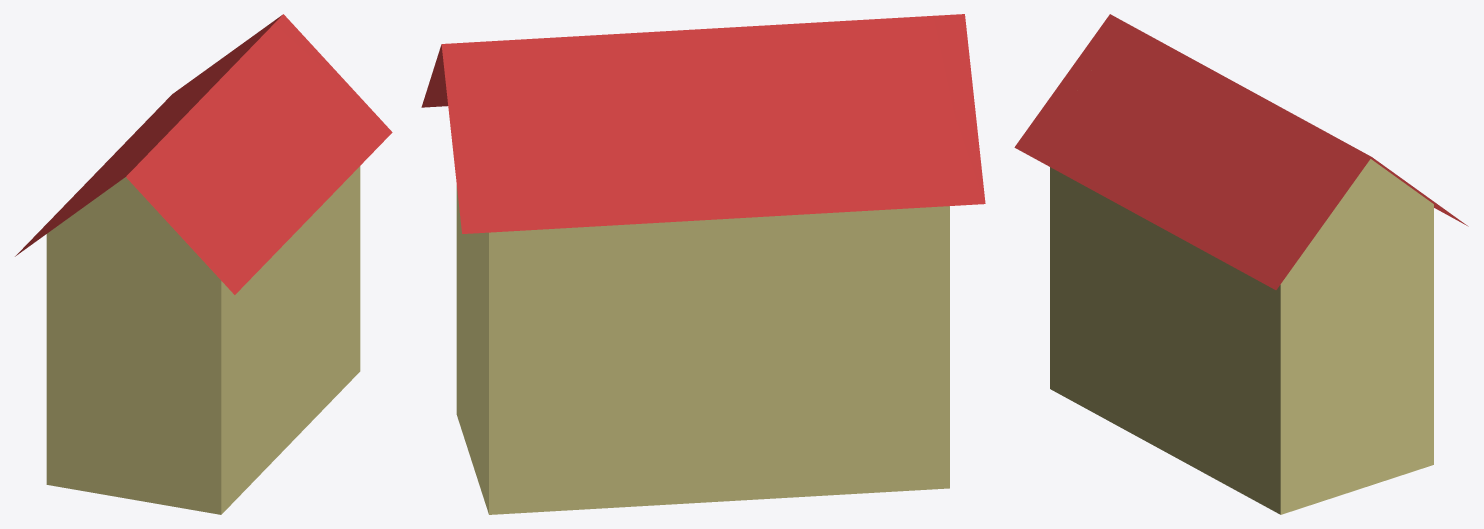
3 views of the same model, side by side, from view 1: azimuth 30°, elevation 25°; view 2: azimuth 150°, elevation 25°; view 3: azimuth 270°, elevation 25° (orthographic). The views are drawn at different scales.
Size of the model in its own units: 9.58 by 8.93 by 7.4.
